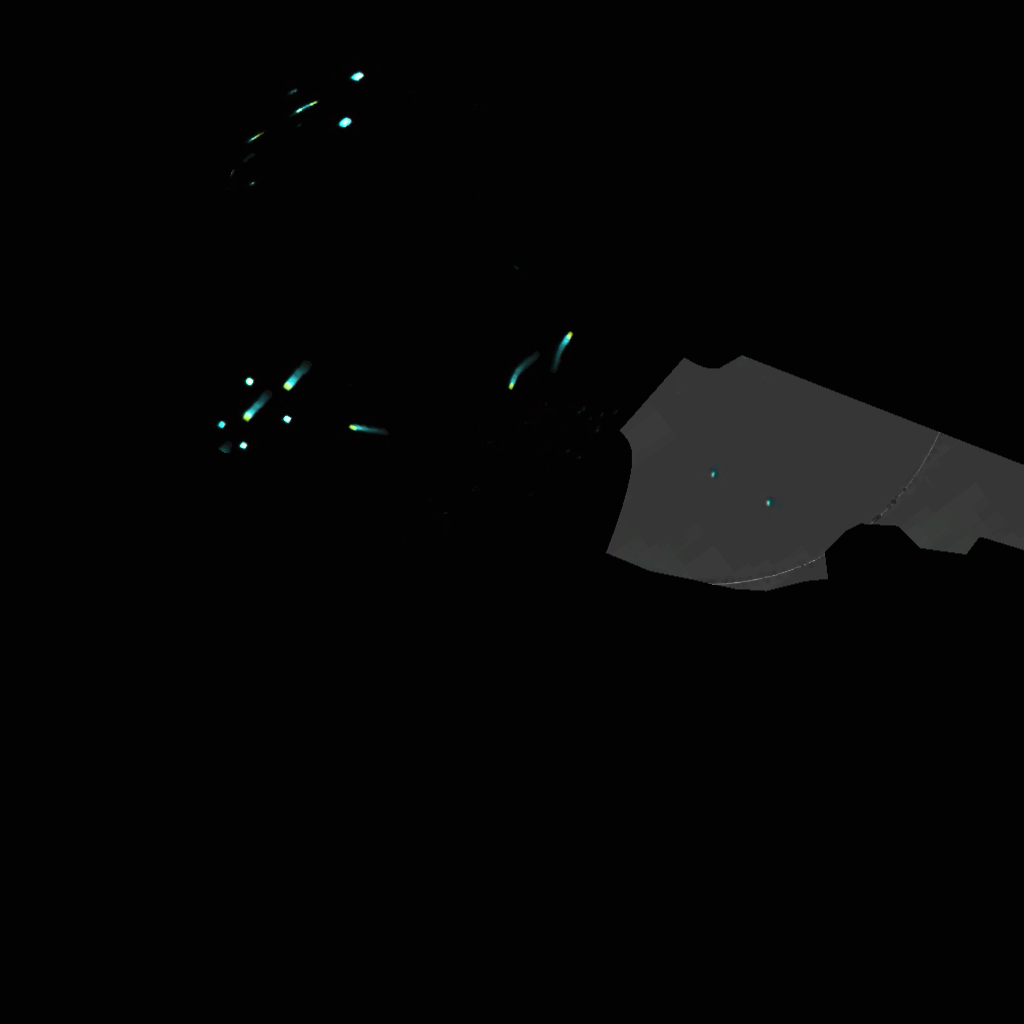B: (504, 358, 532, 392), (282, 367, 310, 392), (241, 398, 271, 421), (554, 332, 576, 363), (348, 419, 378, 434)
